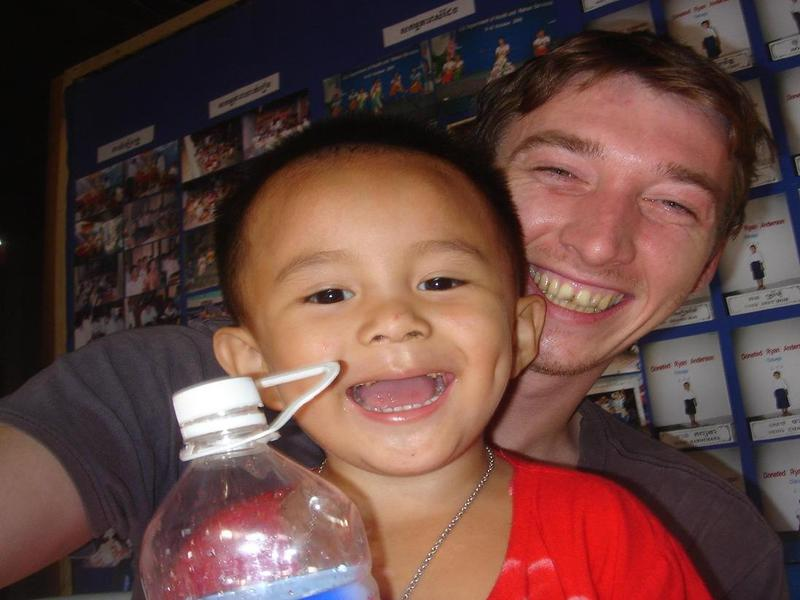person: (26, 37, 779, 592)
